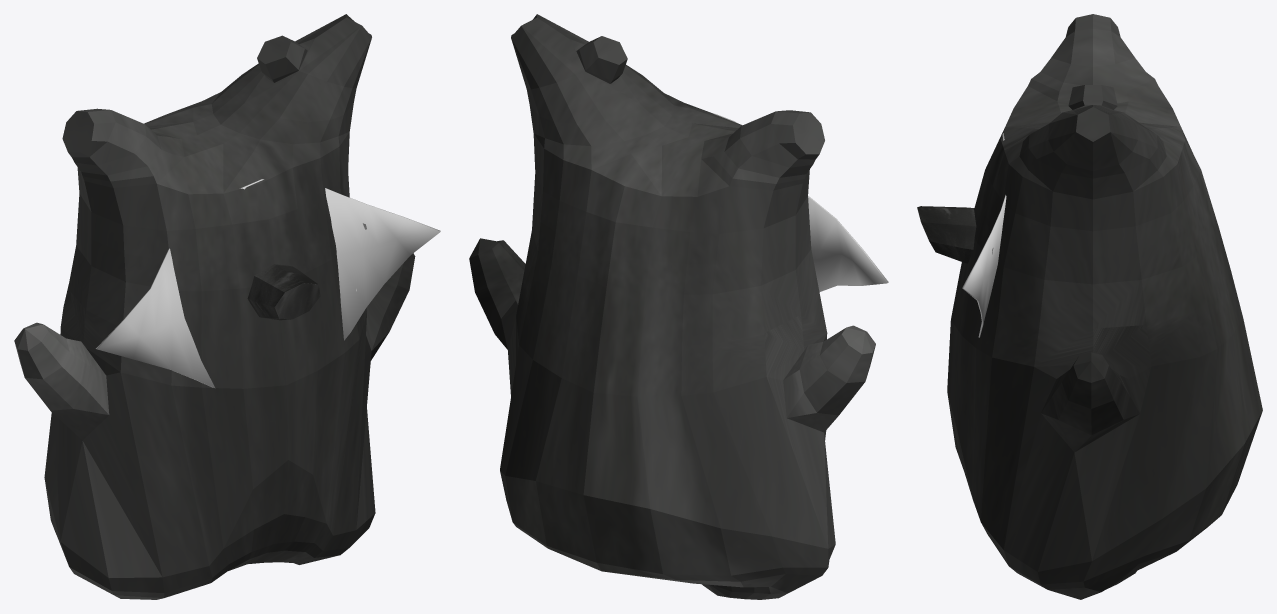
Rendered from frame_0052.obj.
3 renders of one model, left to right at view 1: azimuth 30°, elevation 25°; view 2: azimuth 150°, elevation 25°; view 3: azimuth 270°, elevation 25°, orthographic. The views are drawn at different scales.
Parts seen in each view (by area): view 1: korok, leaf, nose; view 2: korok, leaf; view 3: korok, nose, leaf.
Boxes of the visible parts, x1,y1,x2,y2 form: korok: [14, 14, 415, 599]; leaf: [96, 179, 440, 388]; nose: [247, 264, 320, 320]; korok: [469, 14, 875, 599]; leaf: [714, 113, 888, 291]; korok: [947, 14, 1262, 599]; nose: [917, 206, 976, 263]; leaf: [962, 133, 1006, 337].
Size of the model in its own units: 1.61 by 2.04 by 1.25.
